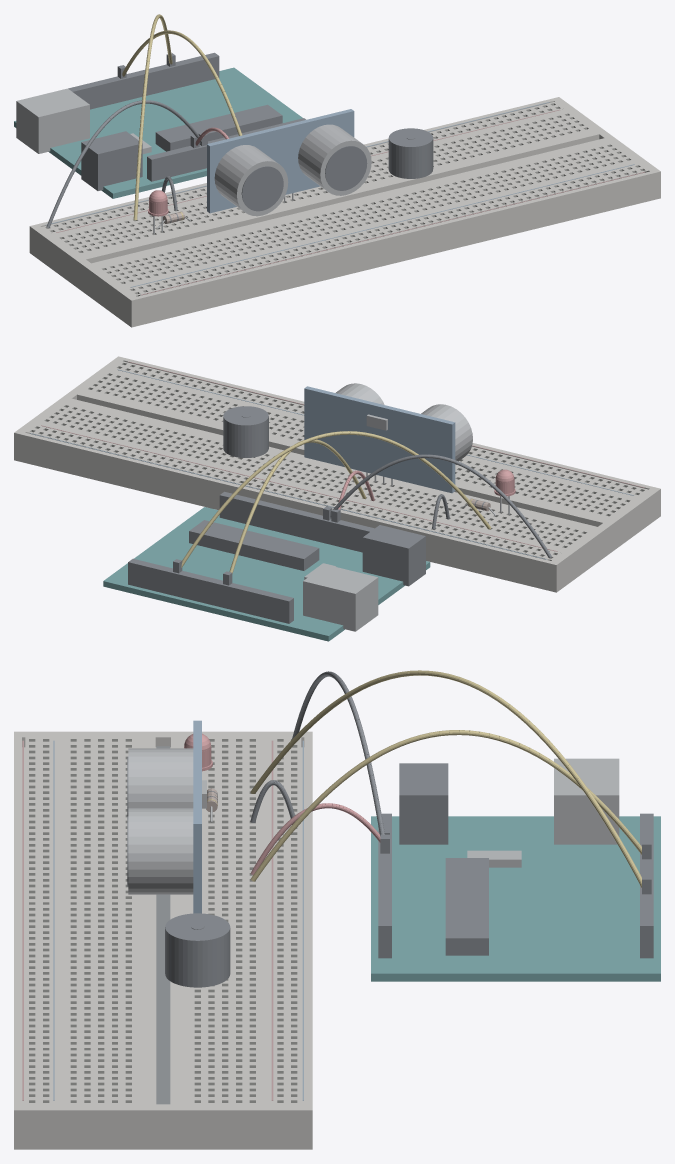
Rendered from step-11.glb.
The picture shows the model from 3 angles, top to bottom: view 1: azimuth 30°, elevation 25°; view 2: azimuth 150°, elevation 25°; view 3: azimuth 270°, elevation 25°; orthographic projection. The views are drawn at different scales.
Visible parts, largest first — view 1: breadboard__mesh, uno__mesh, sensor__mesh, buzzer__mesh, wire_led_signal__mesh, wire_ground__mesh, wire_sensor_trig__mesh, led_red__mesh; view 2: breadboard__mesh, uno__mesh, sensor__mesh, buzzer__mesh, wire_led_signal__mesh, wire_ground__mesh, wire_sensor_trig__mesh, led_red__mesh; view 3: breadboard__mesh, uno__mesh, sensor__mesh, buzzer__mesh, wire_led_signal__mesh, wire_sensor_trig__mesh, wire_ground__mesh, wire_sensor_power__mesh.
Part boxes in pixels (left/top/right/bottom): breadboard__mesh: left=29, top=97, right=660, bottom=327; uno__mesh: left=14, top=52, right=305, bottom=198; sensor__mesh: left=207, top=109, right=371, bottom=216; buzzer__mesh: left=388, top=128, right=433, bottom=178; wire_led_signal__mesh: left=133, top=14, right=175, bottom=220; wire_ground__mesh: left=46, top=100, right=207, bottom=228; wire_sensor_trig__mesh: left=117, top=30, right=242, bottom=135; led_red__mesh: left=148, top=190, right=168, bottom=234; breadboard__mesh: left=14, top=356, right=660, bottom=592; uno__mesh: left=103, top=491, right=430, bottom=641; sensor__mesh: left=304, top=383, right=472, bottom=493; buzzer__mesh: left=223, top=406, right=268, bottom=457; wire_led_signal__mesh: left=173, top=431, right=491, bottom=573; wire_ground__mesh: left=323, top=454, right=551, bottom=558; wire_sensor_trig__mesh: left=223, top=439, right=366, bottom=585; led_red__mesh: left=494, top=469, right=515, bottom=514; breadboard__mesh: left=14, top=731, right=312, bottom=1149; uno__mesh: left=371, top=758, right=660, bottom=981; sensor__mesh: left=127, top=720, right=206, bottom=913; buzzer__mesh: left=165, top=913, right=230, bottom=987; wire_led_signal__mesh: left=250, top=670, right=651, bottom=894; wire_sensor_trig__mesh: left=251, top=730, right=651, bottom=881; wire_ground__mesh: left=292, top=671, right=389, bottom=853; wire_sensor_power__mesh: left=250, top=803, right=389, bottom=874.
Size of the model in its own units: 0.165 by 0.0445 by 0.1192.
